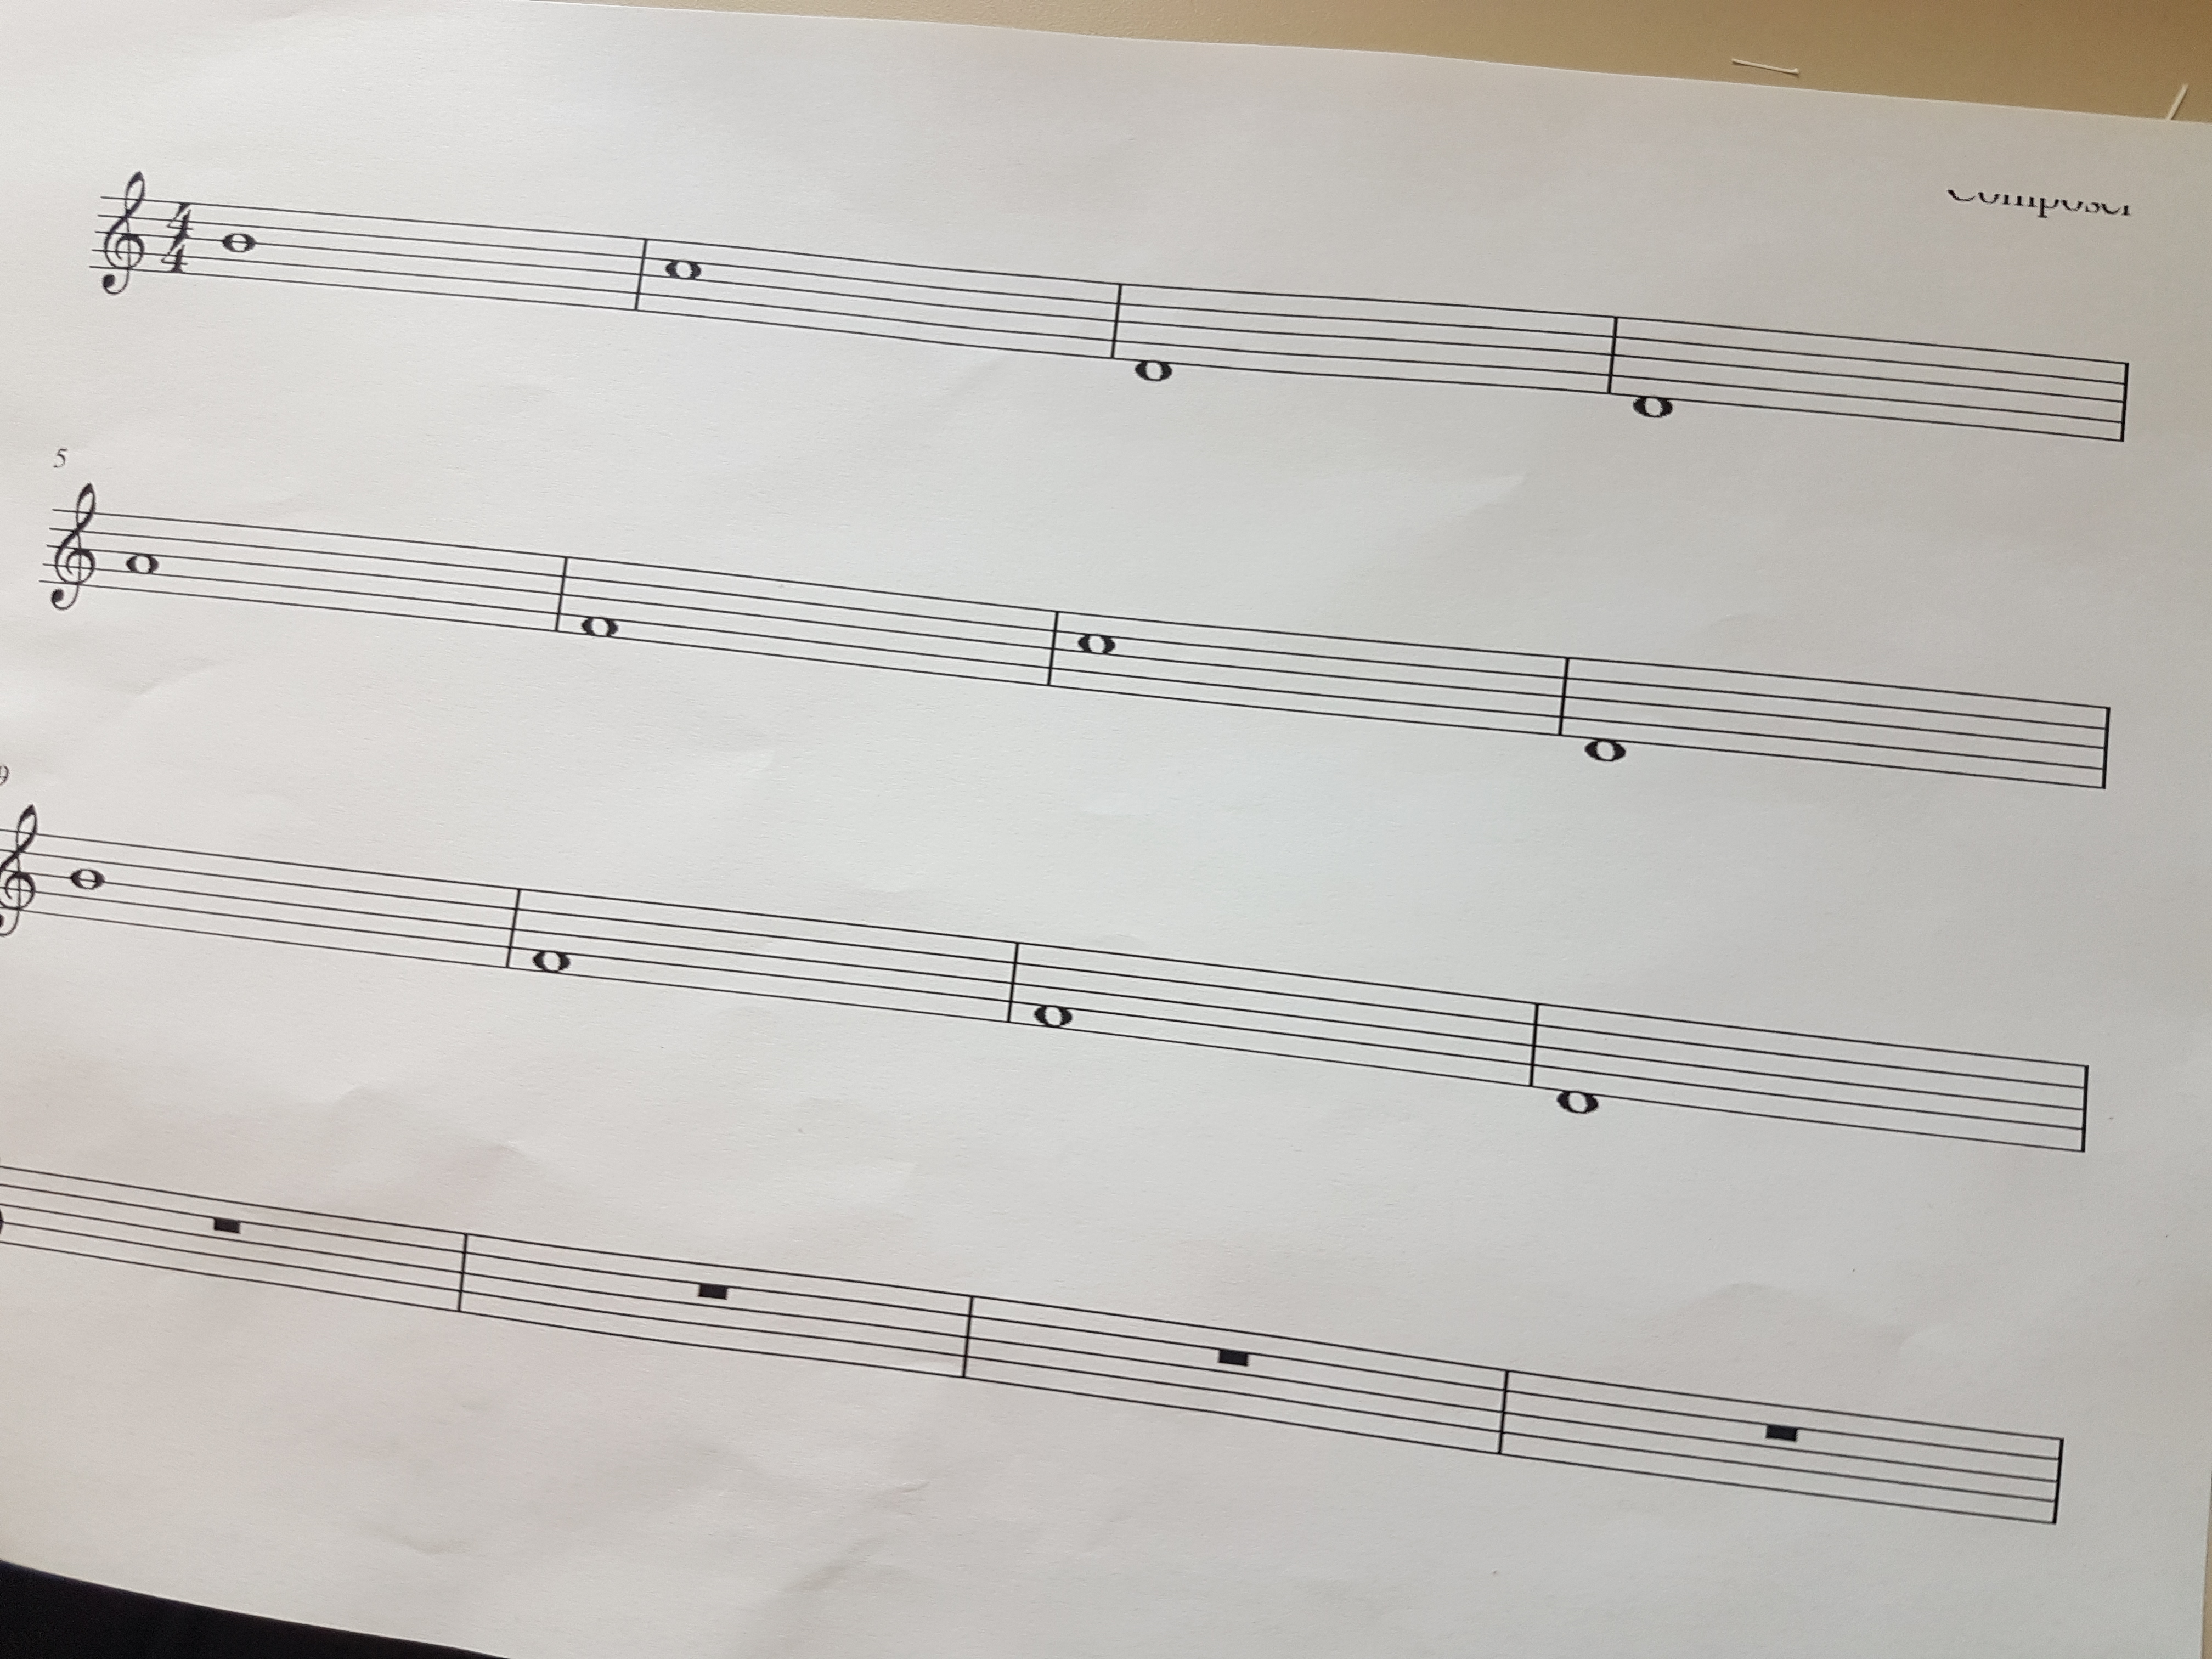key: (92, 152, 152, 310), (45, 469, 105, 624), (0, 796, 42, 943)
pipe: (1487, 1351, 1517, 1464), (1038, 596, 1068, 702), (954, 1272, 981, 1392), (1000, 924, 1026, 1039), (1550, 638, 1575, 758), (2073, 1049, 2097, 1166), (1524, 988, 1547, 1110), (1599, 301, 1623, 411), (448, 1216, 472, 1326), (2095, 695, 2120, 803), (629, 223, 653, 326), (2114, 349, 2137, 457), (502, 873, 523, 979), (549, 537, 570, 641), (2048, 1425, 2067, 1535), (1108, 272, 1125, 369)
semibreve_a: (120, 490, 164, 610)
semibreve_c: (1071, 579, 1118, 721), (660, 221, 707, 336)
semibreve_d: (1547, 981, 1608, 1138), (1580, 620, 1632, 788), (1627, 295, 1679, 443), (1130, 261, 1177, 408), (526, 861, 573, 1002)
semibreve_f: (1028, 913, 1082, 1060), (573, 533, 625, 666)
semibreve_h: (63, 805, 108, 945), (214, 178, 261, 303)
